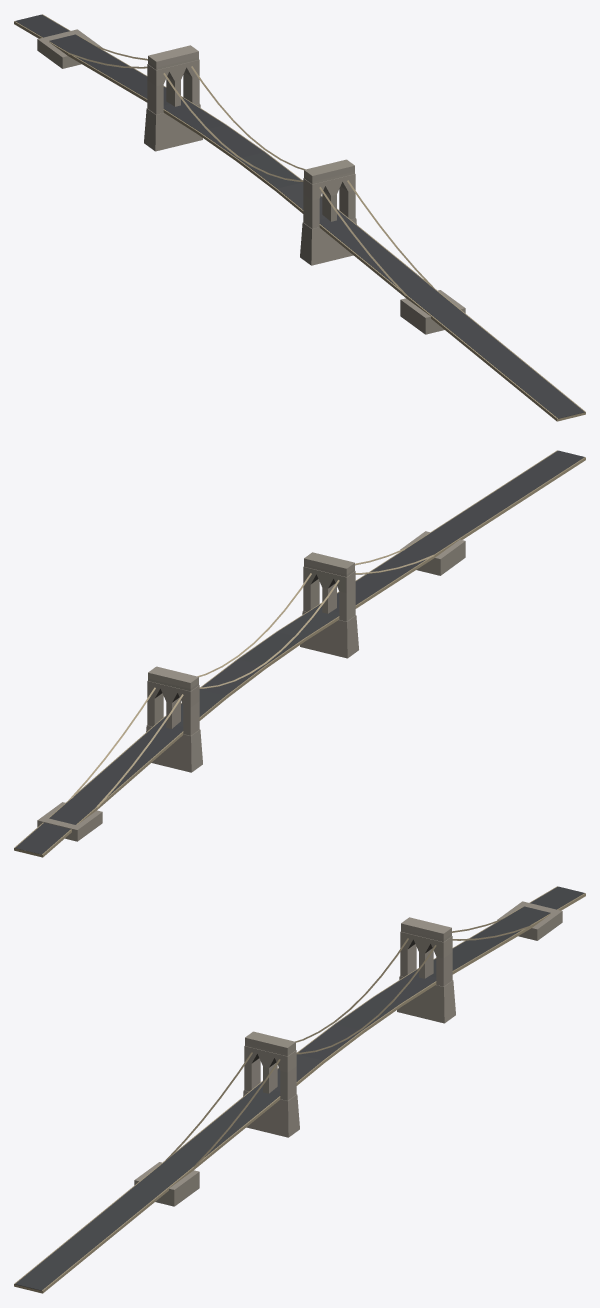
The picture shows the model from 3 angles, top to bottom: view 1: azimuth 30°, elevation 25°; view 2: azimuth 150°, elevation 25°; view 3: azimuth 330°, elevation 25°; orthographic projection.
Visible parts, largest first — view 1: brooklyn-bridge-lod3; view 2: brooklyn-bridge-lod3; view 3: brooklyn-bridge-lod3.
Boxes of the visible parts, x1,y1,x2,y2 form: brooklyn-bridge-lod3: (14,14,585,421); brooklyn-bridge-lod3: (14,450,585,857); brooklyn-bridge-lod3: (14,886,585,1293).
Size of the model in its own units: 85.93 by 151 by 1692.
